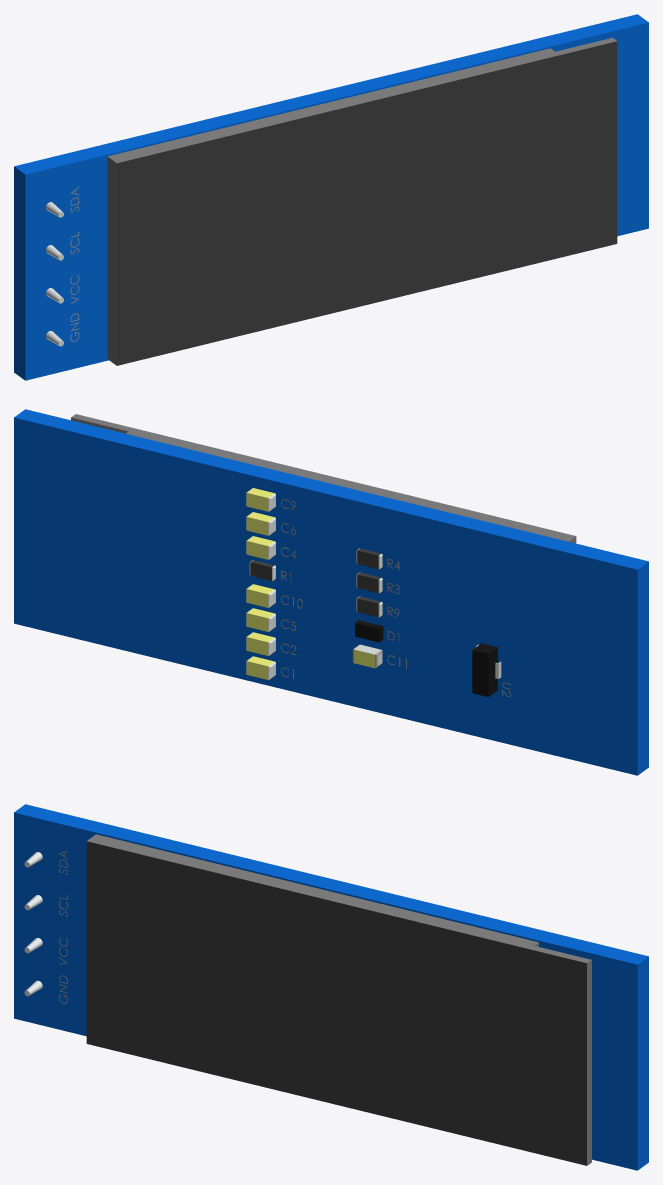
Rendered from Display No Headers.obj.
The picture shows the model from 3 angles, top to bottom: view 1: azimuth 30°, elevation 25°; view 2: azimuth 150°, elevation 25°; view 3: azimuth 330°, elevation 25°; orthographic projection.
Visible parts, largest first — view 1: Body14; view 2: Body14, Body9, Body4, Body3, Body7, Body8, Body2, Body5, Body6; view 3: Body14.
Boxes of the visible parts, <box> form: Body14: <box>14,14,648,380</box>; Body14: <box>14,409,648,775</box>; Body9: <box>352,644,382,668</box>; Body4: <box>246,536,275,559</box>; Body3: <box>246,512,275,535</box>; Body7: <box>246,632,275,655</box>; Body8: <box>246,656,275,679</box>; Body2: <box>246,488,275,511</box>; Body5: <box>246,584,275,607</box>; Body6: <box>246,608,275,631</box>; Body14: <box>14,804,648,1170</box>.
Bounding box in the file's own units: 3.8 × 1.2 × 0.34.
